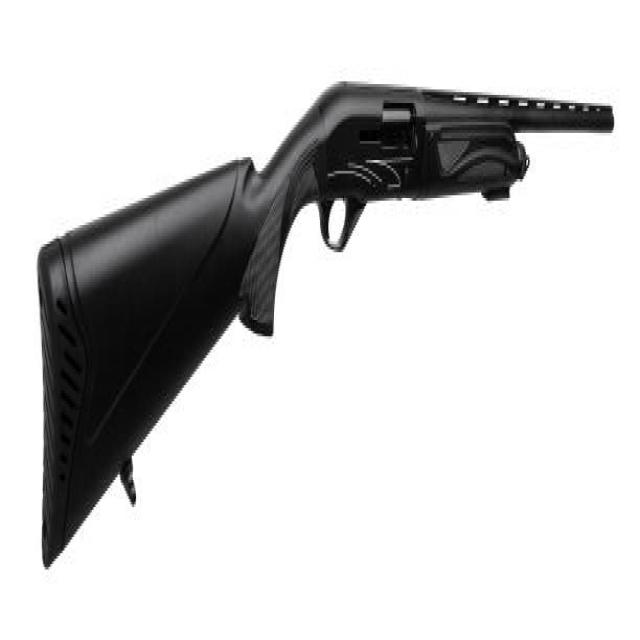rifle: (23, 66, 623, 593)
